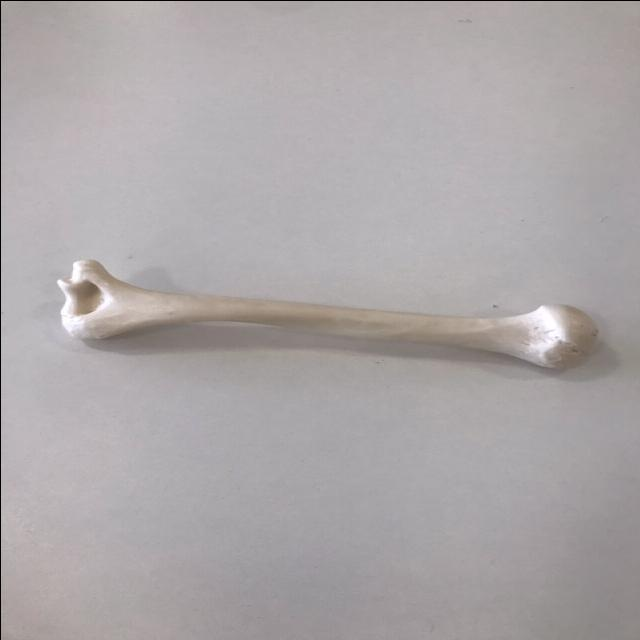bone: (55, 252, 598, 374)
